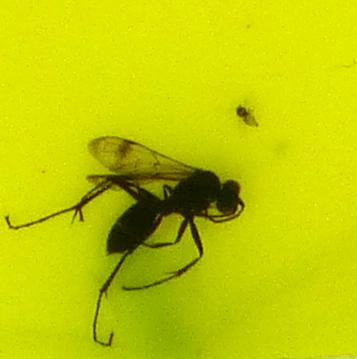Hymenoptera: (100, 164, 242, 259)
Nematocera: (233, 100, 257, 128)
